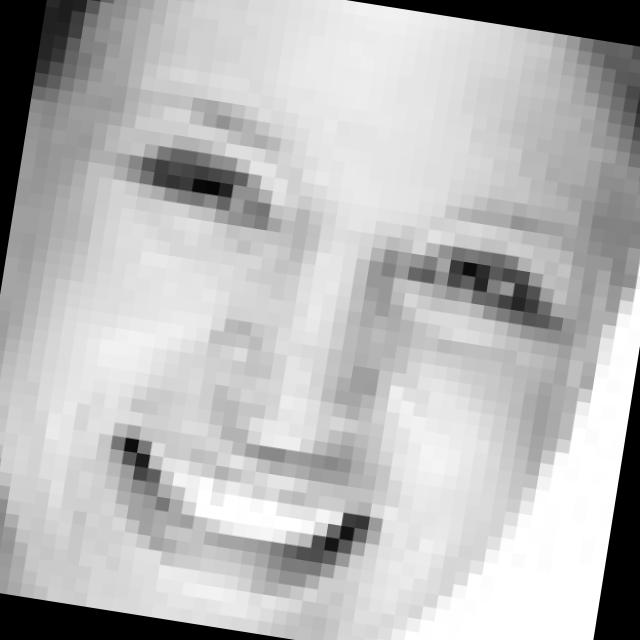happy: (55, 89, 589, 640)
